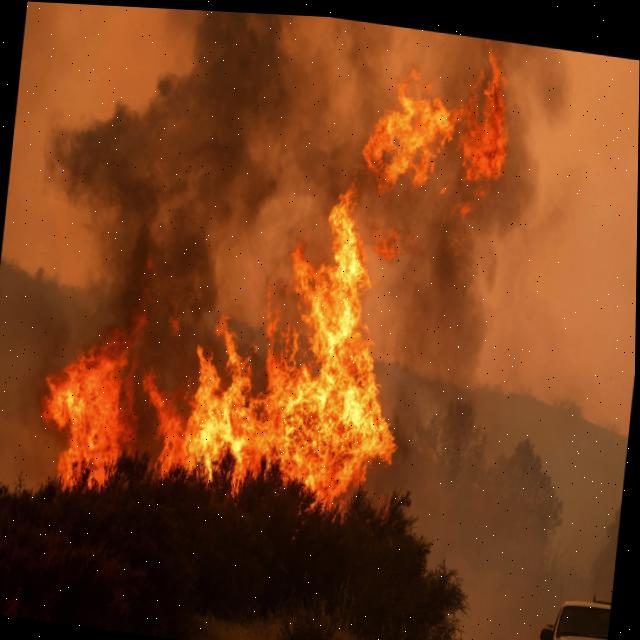fire: (52, 205, 390, 495), (361, 67, 508, 187)
smoke: (52, 8, 433, 348), (472, 39, 640, 624), (392, 168, 525, 436)
